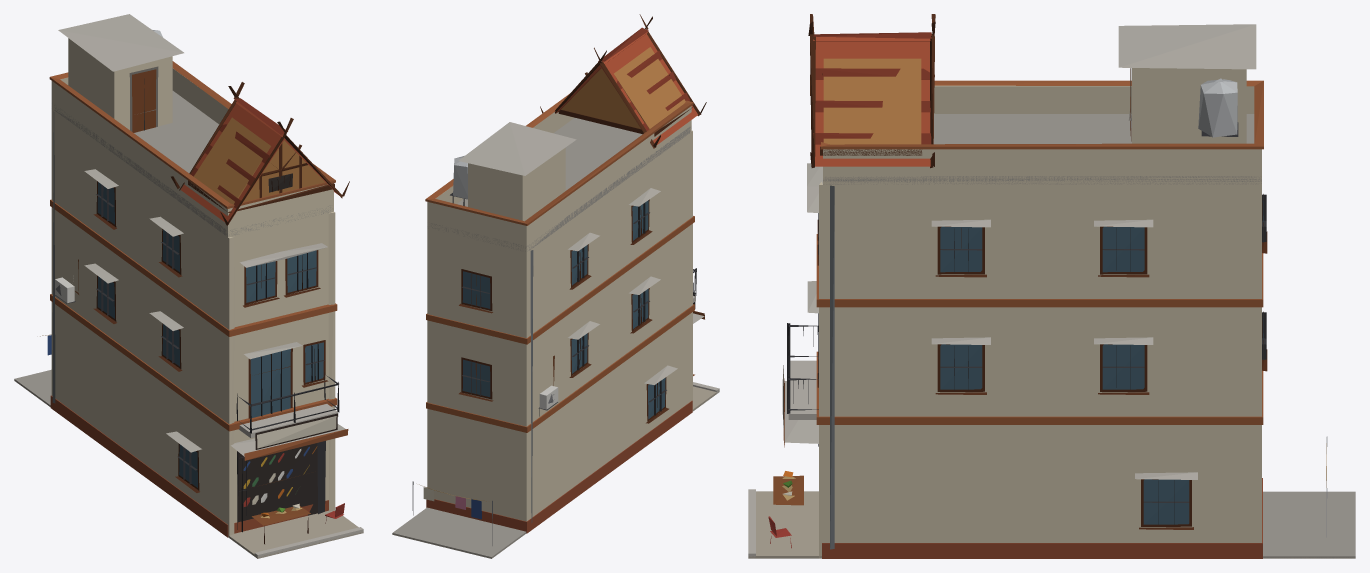
Rendered from bay2_one.glb.
3 renders of one model, left to right at view 1: azimuth 30°, elevation 25°; view 2: azimuth 150°, elevation 25°; view 3: azimuth 270°, elevation 25°, orthographic. The views are drawn at different scales.
Parts seen in each view (by area): view 1: body, windows; view 2: body, windows; view 3: body, windows.
Part boxes in pixels (x1,y1,x2,y2): body: (14, 14, 363, 558); windows: (97, 173, 323, 522); body: (392, 14, 719, 558); windows: (462, 200, 665, 418); body: (748, 14, 1355, 558); windows: (940, 196, 1263, 524).
Bounding box in the file's own units: 4.92 × 14.71 × 15.9.
